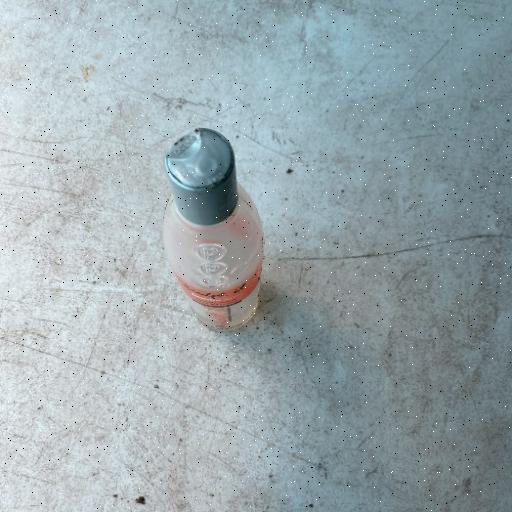Plastic: (158, 125, 266, 333)
